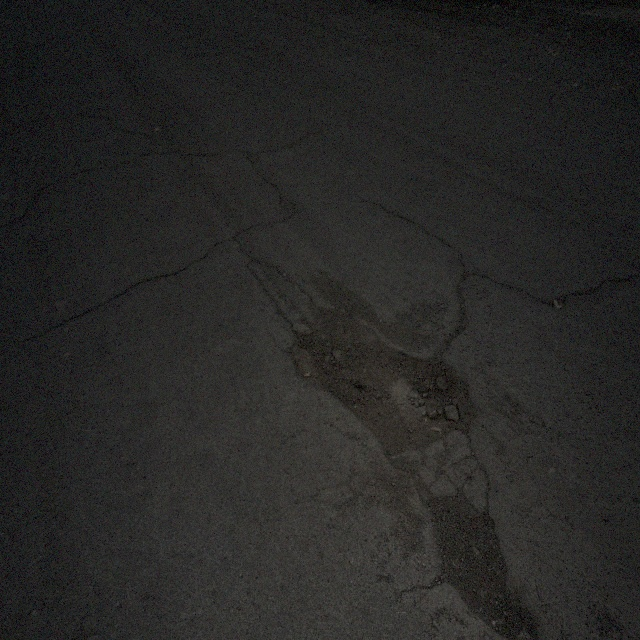pothole: (280, 302, 482, 443), (420, 490, 541, 634)
